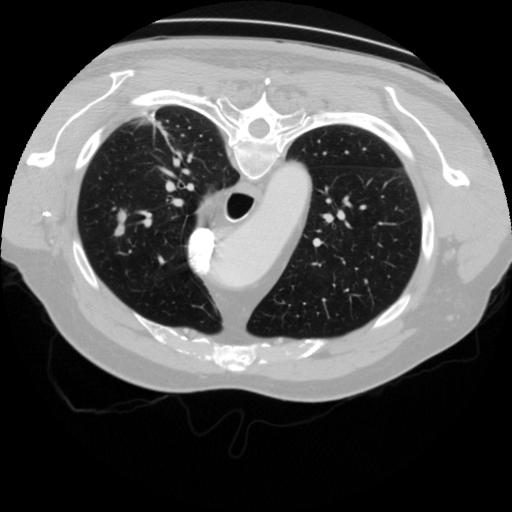nodule: (110, 212, 131, 233)
